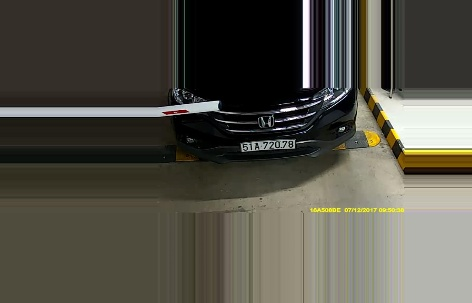plate: (238, 133, 301, 155)
